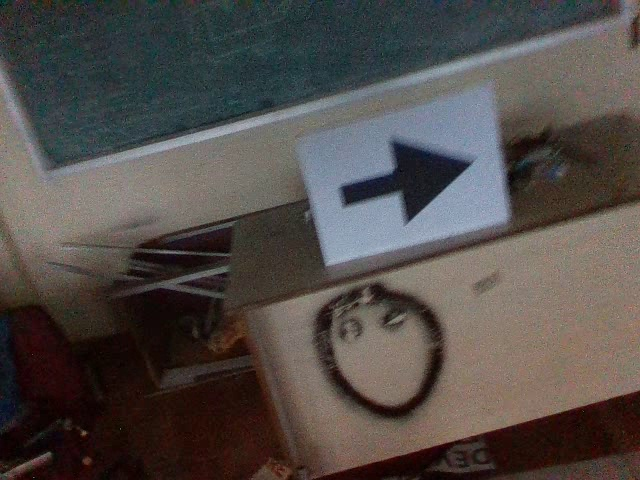Right: (327, 135, 479, 230)
